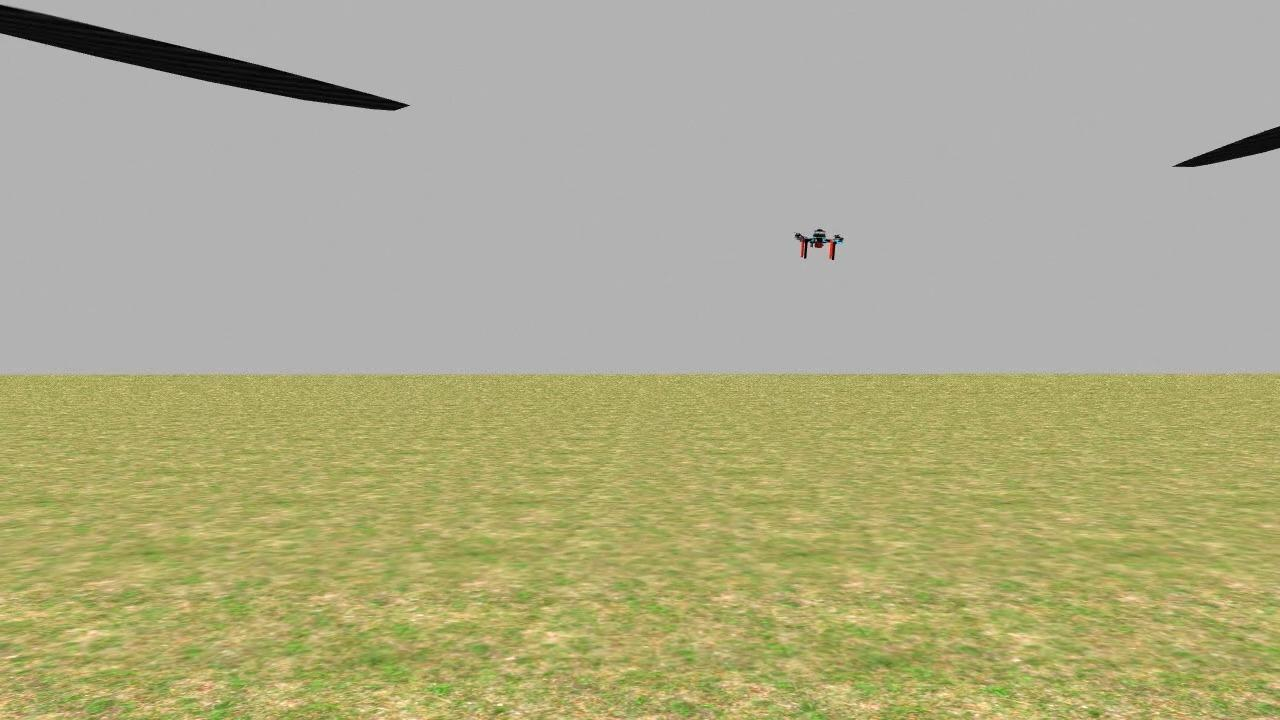UAV: (775, 217, 859, 268)
